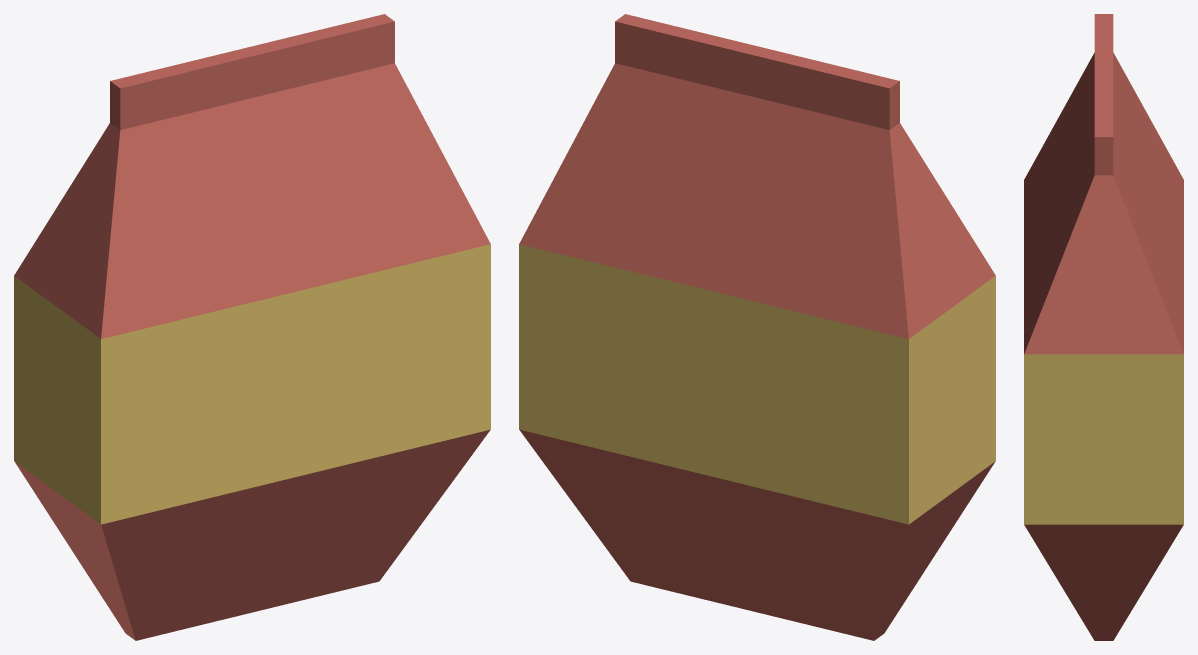
Rendered from chips.glb.
3 renders of one model, left to right at view 1: azimuth 30°, elevation 25°; view 2: azimuth 150°, elevation 25°; view 3: azimuth 270°, elevation 25°, orthographic. The views are drawn at different scales.
Parts seen in each view (by area): view 1: NC_chips; view 2: NC_chips; view 3: NC_chips.
Part boxes in pixels (x1,y1,x2,y2): NC_chips: (14,14,490,640); NC_chips: (519,14,995,640); NC_chips: (1024,14,1183,640).
Bounding box in the file's own units: 0.176 × 0.24 × 0.068.
